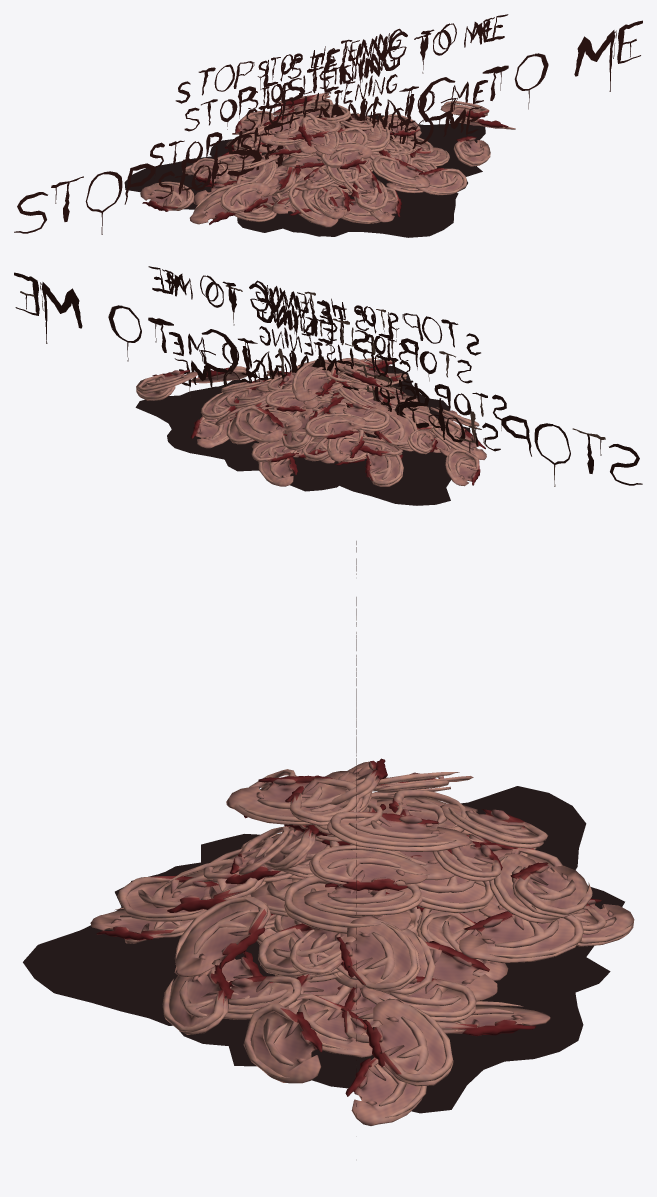
The model's file is stop-listening.glb.
3 renders of one model, top to bottom at view 1: azimuth 30°, elevation 25°; view 2: azimuth 150°, elevation 25°; view 3: azimuth 270°, elevation 25°, orthographic. The views are drawn at different scales.
Visible parts, largest first — view 1: stop_listening_heap_c, stop_listening_heap_a, stop_listening_writing_block, stop_listening_writing_line, stop_listening_writing_scrawl, stop_listening_heap_b; view 2: stop_listening_heap_c, stop_listening_heap_a, stop_listening_writing_block, stop_listening_writing_line, stop_listening_writing_scrawl, stop_listening_heap_b, stop_listening_writing_line_pale, stop_listening_writing_block_pale, stop_listening_writing_scrawl_pale; view 3: stop_listening_heap_a, stop_listening_heap_c, stop_listening_heap_b.
Boxes of the visible parts, x1=… form: stop_listening_heap_c: x1=124, y1=101, x2=515, y2=237; stop_listening_heap_a: x1=209, y1=92, x2=482, y2=236; stop_listening_writing_block: x1=150, y1=14, x2=508, y2=199; stop_listening_writing_line: x1=14, y1=20, x2=642, y2=234; stop_listening_writing_scrawl: x1=239, y1=28, x2=417, y2=165; stop_listening_heap_b: x1=254, y1=120, x2=413, y2=215; stop_listening_heap_c: x1=135, y1=365, x2=486, y2=505; stop_listening_heap_a: x1=190, y1=357, x2=450, y2=491; stop_listening_writing_block: x1=148, y1=266, x2=507, y2=451; stop_listening_writing_line: x1=14, y1=272, x2=642, y2=485; stop_listening_writing_scrawl: x1=241, y1=280, x2=417, y2=437; stop_listening_heap_b: x1=251, y1=357, x2=414, y2=475; stop_listening_writing_line_pale: x1=20, y1=291, x2=605, y2=486; stop_listening_writing_block_pale: x1=179, y1=285, x2=501, y2=446; stop_listening_writing_scrawl_pale: x1=268, y1=292, x2=414, y2=415; stop_listening_heap_a: x1=90, y1=775, x2=634, y2=1066; stop_listening_heap_c: x1=23, y1=758, x2=610, y2=1125; stop_listening_heap_b: x1=163, y1=771, x2=508, y2=980.
Bounding box in the file's own units: 4.71 × 1.01 × 1.98.
Materials: 7 (4 with a texture image).
